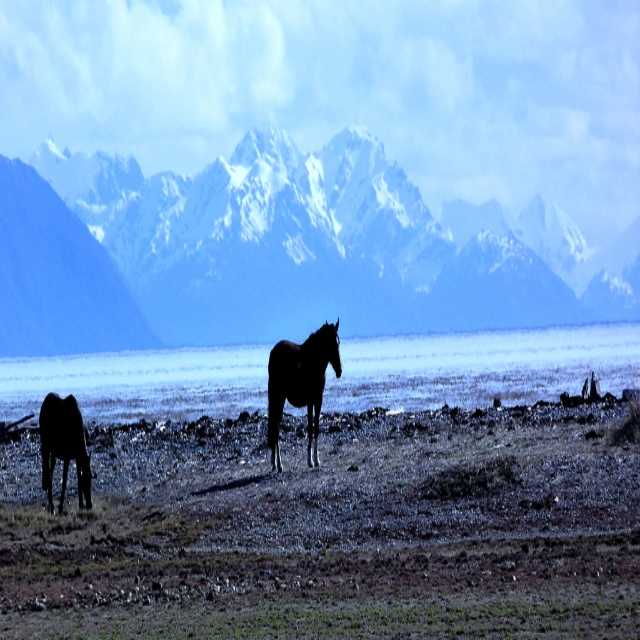Horse: (272, 314, 342, 481), (41, 387, 93, 519)
